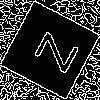Z: (24, 25, 80, 75)
